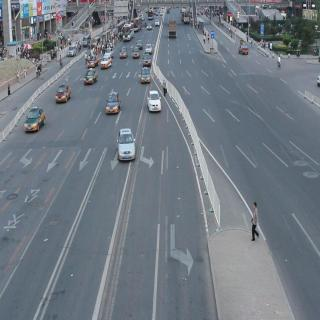BigCar: (166, 20, 182, 42)
Car: (117, 124, 135, 165), (52, 80, 74, 110), (105, 79, 121, 118), (25, 106, 47, 132), (147, 89, 163, 118), (86, 65, 97, 90), (99, 55, 113, 73), (141, 63, 151, 85), (119, 44, 129, 66), (144, 39, 154, 58), (240, 42, 250, 58), (132, 42, 139, 64), (144, 53, 150, 67)
